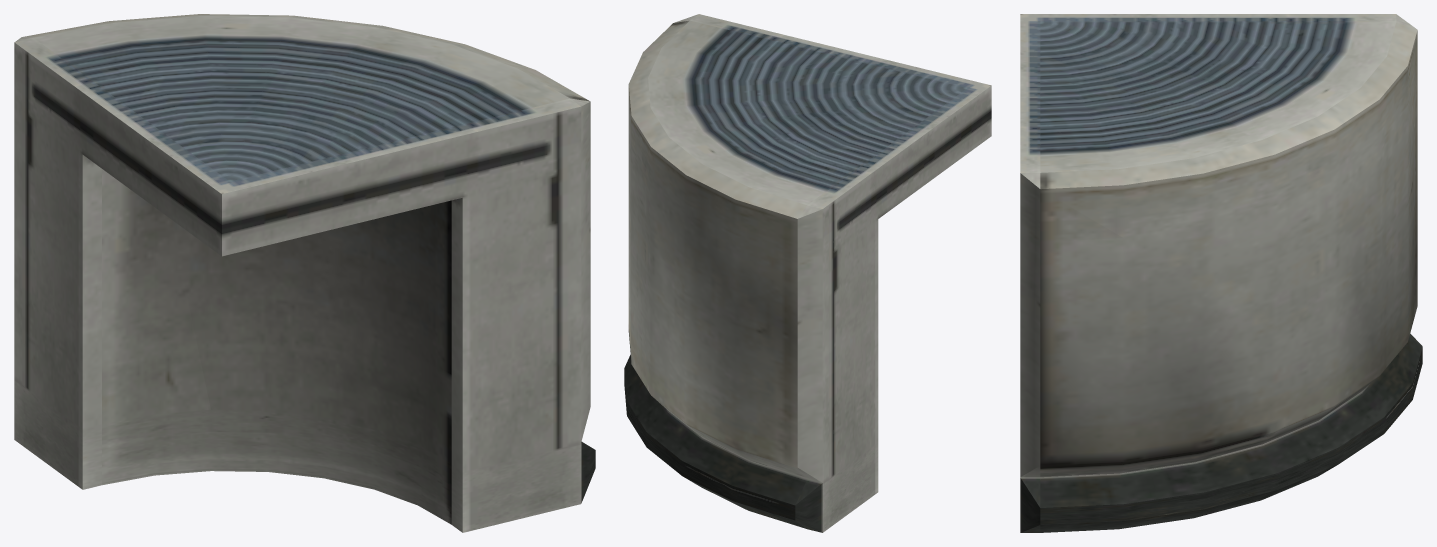
The model's file is Neon_CounterCrv_Cap_01.FBX.
The picture shows the model from 3 angles, left to right: view 1: azimuth 30°, elevation 25°; view 2: azimuth 150°, elevation 25°; view 3: azimuth 270°, elevation 25°; orthographic projection. The views are drawn at different scales.
Parts seen in each view (by area): view 1: Neon_CounterCrv_Cap_01; view 2: Neon_CounterCrv_Cap_01; view 3: Neon_CounterCrv_Cap_01.
Part boxes in pixels (x1=…): Neon_CounterCrv_Cap_01: x1=14, y1=14, x2=595, y2=532; Neon_CounterCrv_Cap_01: x1=624, y1=14, x2=991, y2=532; Neon_CounterCrv_Cap_01: x1=1020, y1=14, x2=1422, y2=532.
Size of the model in its own units: 1.01 by 0.9999 by 1.01.
